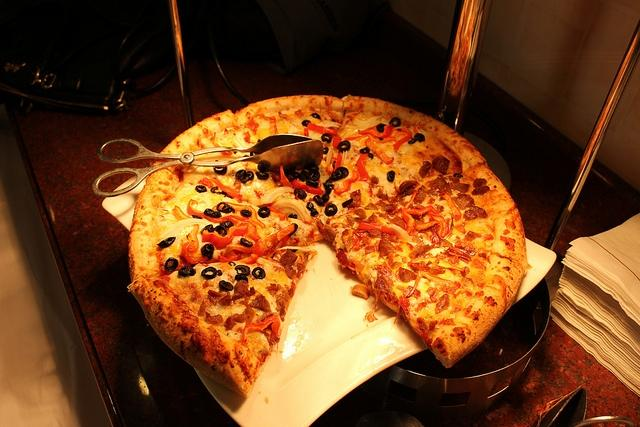bell pepper: (212, 201, 266, 229), (251, 223, 295, 256), (202, 222, 248, 250), (242, 314, 280, 342), (187, 199, 228, 223), (229, 215, 261, 242), (209, 178, 242, 204), (402, 206, 438, 229), (365, 138, 395, 164), (441, 192, 462, 222), (412, 220, 443, 240), (182, 241, 208, 264), (306, 122, 338, 139), (401, 190, 419, 220), (344, 134, 398, 144), (292, 179, 324, 195), (357, 222, 396, 235), (358, 124, 394, 138), (393, 128, 412, 150), (357, 153, 369, 182), (429, 218, 441, 245), (280, 166, 292, 188), (235, 254, 258, 264), (332, 154, 342, 173), (218, 254, 238, 263), (220, 215, 246, 221), (326, 170, 332, 174)
